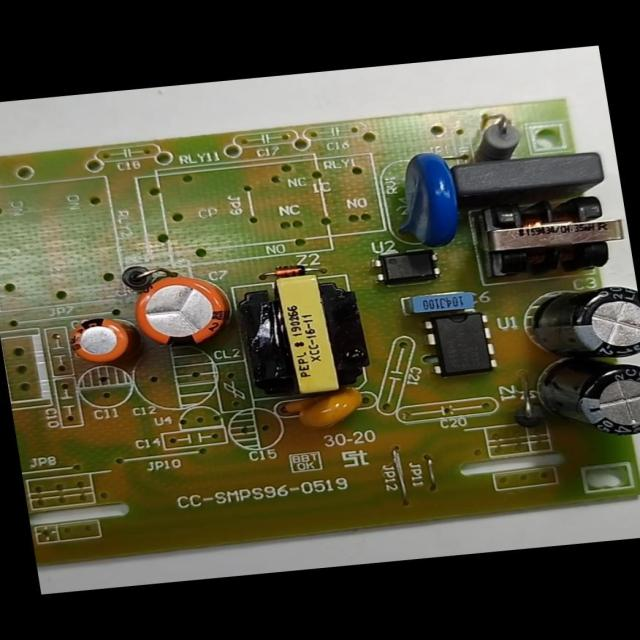Cap1: (126, 268, 236, 353)
Cap2: (61, 305, 138, 369)
Cap3: (528, 274, 640, 366)
Cap4: (555, 360, 639, 448)
MOSFET: (412, 301, 508, 386)
Mov: (383, 146, 467, 250)
Resistor: (469, 108, 536, 156)
Transformer: (234, 266, 374, 402), (464, 189, 634, 284)
